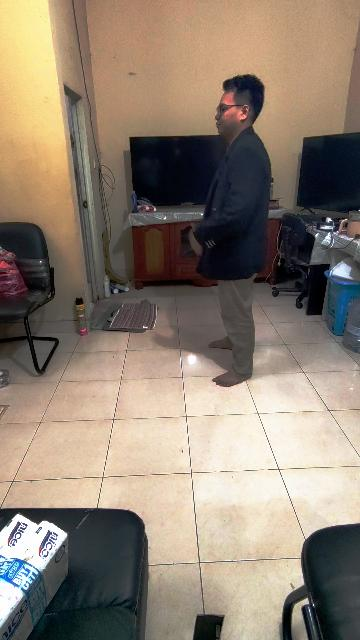berdiri: (190, 75, 273, 387)
